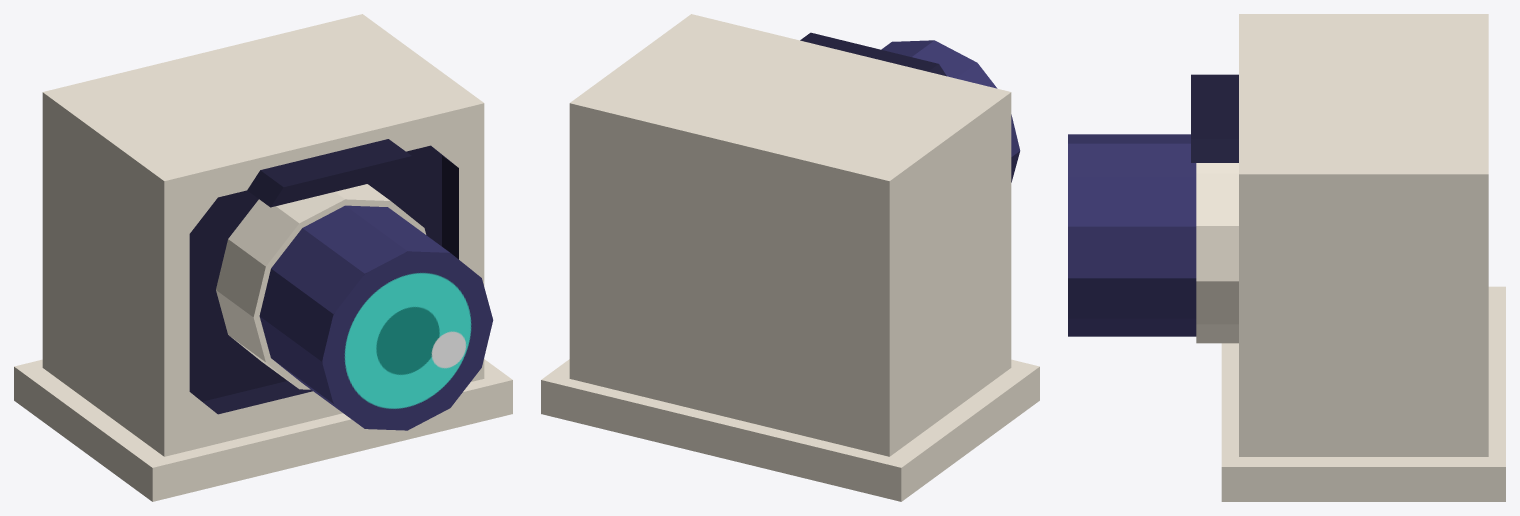
Rendered from Camera Long Range.fbx.
3 views of the same model, side by side, from view 1: azimuth 30°, elevation 25°; view 2: azimuth 150°, elevation 25°; view 3: azimuth 270°, elevation 25° (orthographic). The views are drawn at different scales.
Parts seen in each view (by area): view 1: Long Range Cam; view 2: Long Range Cam; view 3: Long Range Cam.
Boxes of the visible parts, box(x1,y1,x2,y2) form: Long Range Cam: box(14, 14, 512, 501); Long Range Cam: box(541, 14, 1039, 501); Long Range Cam: box(1068, 14, 1505, 501).
Bounding box in the file's own units: 3.01 × 2.47 × 3.08.
